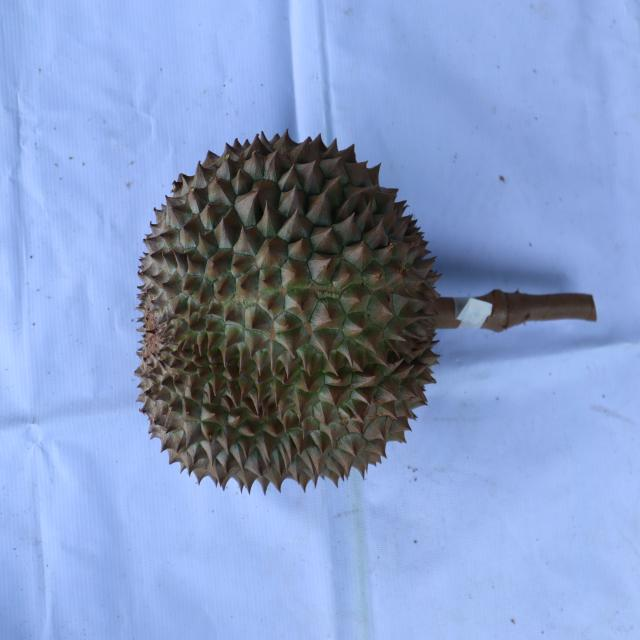mature: (135, 131, 446, 502)
